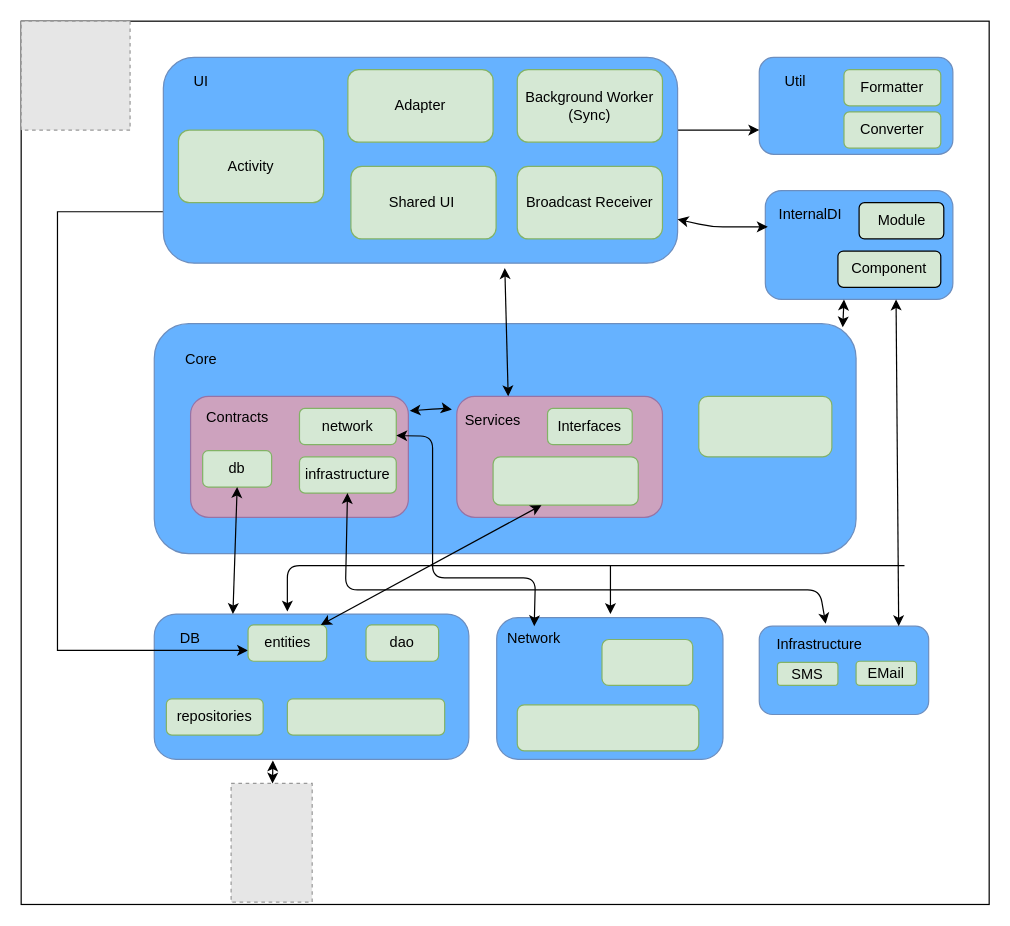
The diagram is 1010 pixels wide and 926 high, and some of its shapes have lost their labels. Grey dashed boxes stand in for pictures. The shapes that lost their labels are listed below. From the top down, each one's centre as x and y in pixels, then its label:
At point (765, 426): "Domain Entities".
At point (565, 480): "Actual Services".
At point (647, 661): "retrofit".
At point (365, 716): "Shared Preferences".
At point (607, 727): "HTTP services".
